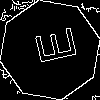E: (25, 25, 78, 68)
